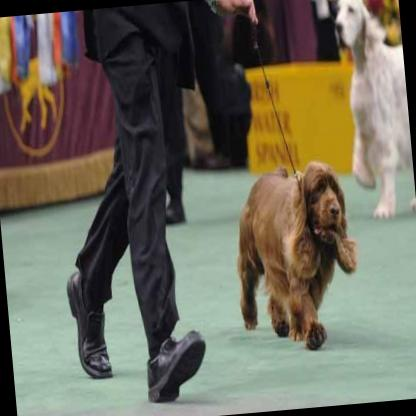Sussex_spaniel: (225, 156, 366, 355), (330, 0, 415, 223)
